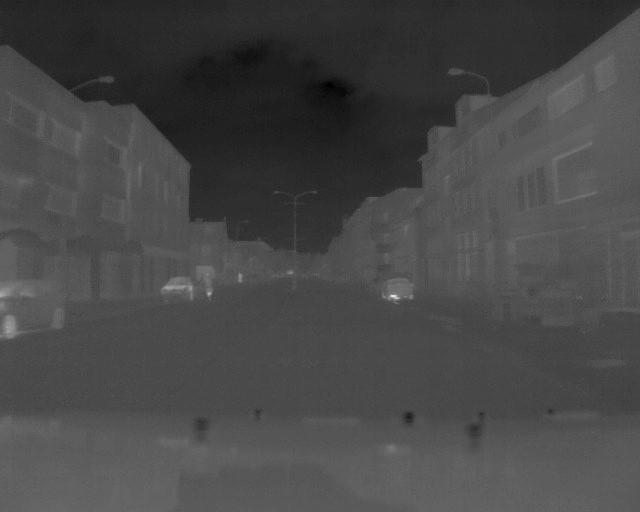car: (1, 277, 68, 340), (159, 274, 206, 305), (380, 275, 417, 306)
person: (201, 271, 216, 306)
